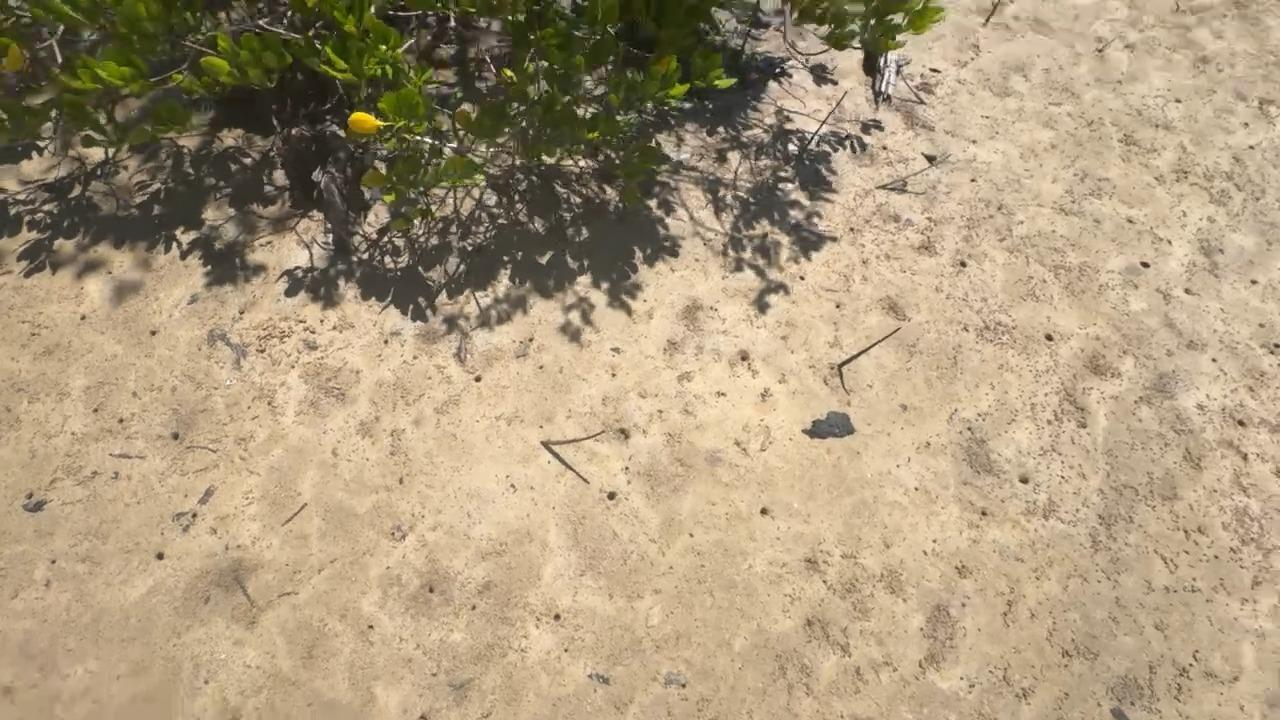Tree: (797, 93, 848, 154), (839, 327, 903, 368), (876, 157, 952, 188), (541, 430, 606, 447), (983, 0, 1003, 26)
